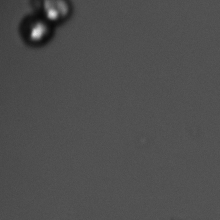Living Cell: (19, 16, 54, 48), (37, 1, 72, 24)
